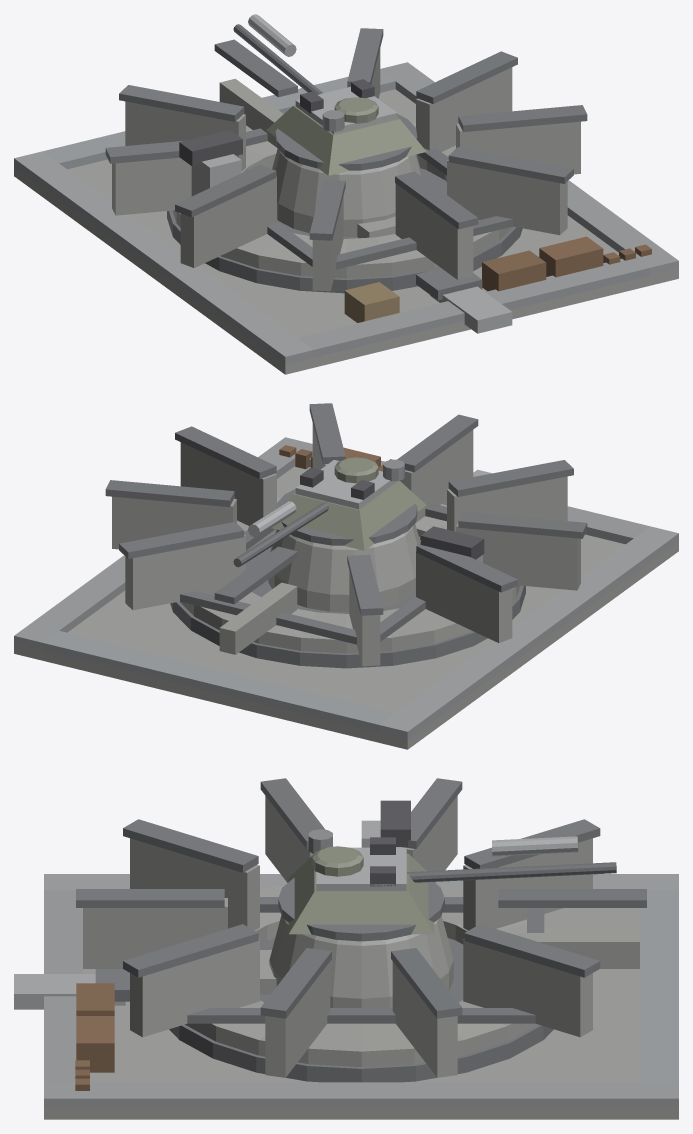
Rendered from western_gun.glb.
3 renders of one model, top to bottom at view 1: azimuth 30°, elevation 25°; view 2: azimuth 150°, elevation 25°; view 3: azimuth 270°, elevation 25°, orthographic. The views are drawn at different scales.
Visible parts, largest first — view 1: parapet, apron_rim, parapet_cap, apron, barbette, turret, platform, lockers, kerb, platform_cap, duct, director (+4 smaller); view 2: parapet, apron_rim, apron, parapet_cap, barbette, turret, platform, kerb, platform_cap, director, barrel, lockers (+1 smaller); view 3: parapet, apron_rim, apron, parapet_cap, turret, barbette, platform, kerb, platform_cap, lockers, duct, barrel (+3 smaller).
Part boxes in pixels (x1,y1,x2,y2): parapet: [112, 48, 580, 291]; apron_rim: [14, 62, 678, 364]; parapet_cap: [105, 28, 587, 240]; apron: [14, 89, 678, 374]; barbette: [272, 114, 422, 236]; turret: [266, 79, 426, 175]; platform: [172, 122, 512, 278]; lockers: [482, 236, 651, 291]; kerb: [167, 168, 522, 293]; platform_cap: [246, 128, 512, 269]; duct: [416, 268, 512, 333]; director: [179, 130, 242, 196]; parapet: [112, 423, 580, 666]; apron_rim: [14, 437, 678, 739]; apron: [14, 466, 678, 749]; parapet_cap: [105, 403, 587, 615]; barbette: [268, 489, 420, 612]; turret: [271, 457, 426, 550]; platform: [180, 497, 520, 653]; kerb: [170, 547, 525, 668]; platform_cap: [180, 503, 446, 644]; director: [420, 526, 484, 562]; barrel: [233, 501, 328, 567]; lockers: [279, 445, 392, 471]; parapet: [83, 796, 639, 1077]; apron_rim: [44, 874, 678, 1107]; apron: [44, 908, 678, 1119]; parapet_cap: [76, 778, 646, 1018]; turret: [288, 829, 434, 934]; barbette: [269, 877, 453, 1007]; platform: [185, 884, 550, 1067]; kerb: [169, 938, 553, 1082]; platform_cap: [187, 897, 544, 1023]; lockers: [75, 983, 114, 1090]; duct: [14, 969, 129, 1009]; barrel: [407, 862, 616, 882].
Bounding box in the file's own units: 12.84 × 4.37 × 15.5.
